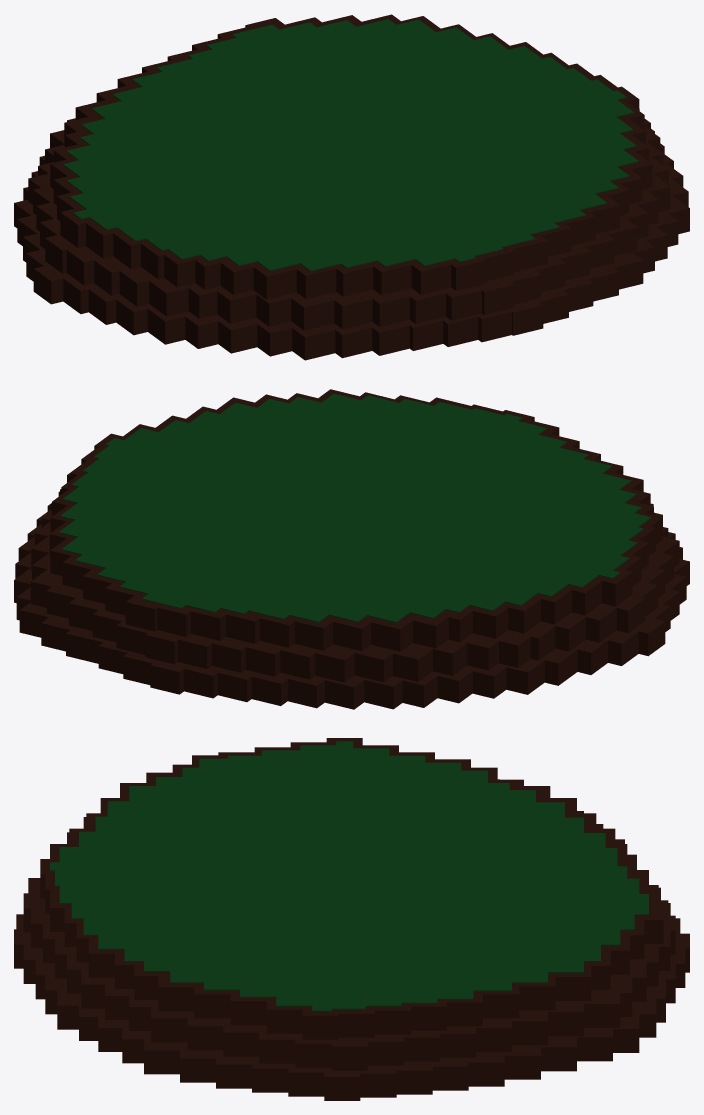
3 renders of one model, top to bottom at view 1: azimuth 30°, elevation 25°; view 2: azimuth 150°, elevation 25°; view 3: azimuth 270°, elevation 25°, orthographic. The views are drawn at different scales.
Visible parts, largest first — view 1: Grass48, Grass35, Grass43, Grass44, Grass41, Grass9, Grass8, Grass6, Grass40, Grass45, Grass18, Grass10 (+92 smaller); view 2: Grass48, Grass35, Grass43, Grass44, Grass41, Grass9, Grass8, Grass40, Grass6, Grass45, Grass20, Grass21 (+91 smaller); view 3: Grass48, Grass35, Grass43, Grass44, Grass41, Grass9, Grass8, Grass6, Grass40, Grass45, Grass20, Grass10 (+93 smaller).
Boxes of the visible parts, x1,y1,x2,y2 form: Grass48: [91, 30, 602, 247]; Grass35: [112, 23, 411, 100]; Grass43: [89, 189, 218, 230]; Grass44: [117, 202, 237, 241]; Grass41: [70, 170, 193, 209]; Grass9: [448, 199, 535, 247]; Grass8: [417, 207, 503, 256]; Grass6: [371, 219, 454, 266]; Grass40: [66, 158, 176, 193]; Grass45: [145, 216, 253, 250]; Grass18: [534, 99, 633, 132]; Grass10: [482, 192, 559, 234]; Grass48: [86, 411, 580, 622]; Grass35: [77, 546, 366, 622]; Grass43: [503, 531, 629, 570]; Grass44: [520, 518, 637, 555]; Grass41: [479, 549, 598, 587]; Grass9: [388, 402, 472, 447]; Grass8: [421, 408, 503, 454]; Grass40: [462, 562, 568, 596]; Grass6: [466, 421, 546, 465]; Grass45: [538, 506, 643, 540]; Grass20: [93, 445, 194, 477]; Grass21: [82, 458, 178, 490]; Grass48: [170, 802, 564, 963]; Grass35: [565, 817, 583, 963]; Grass43: [300, 745, 336, 802]; Grass44: [261, 750, 300, 802]; Grass41: [353, 748, 389, 802]; Grass9: [59, 885, 170, 903]; Grass8: [55, 870, 170, 886]; Grass6: [59, 847, 170, 862]; Grass40: [389, 755, 425, 802]; Grass45: [228, 755, 261, 802]; Grass20: [331, 964, 365, 1009]; Grass10: [71, 903, 170, 918].
Size of the model in its own units: 301 by 33.4 by 281.
